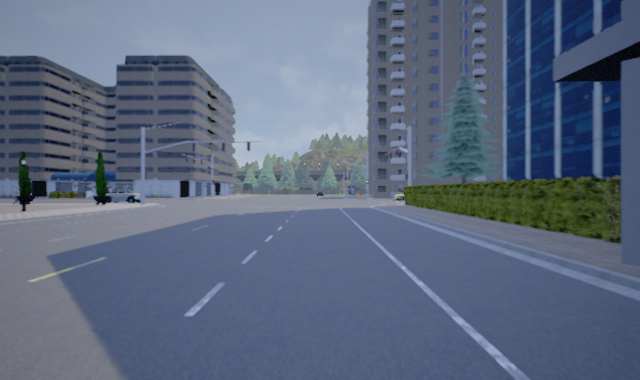vehicle: (103, 188, 141, 202), (393, 190, 406, 200)
